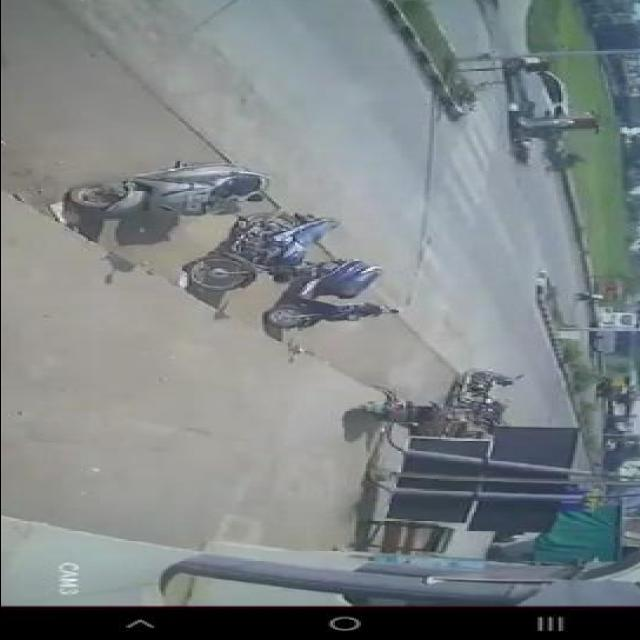accident: (488, 51, 578, 173)
